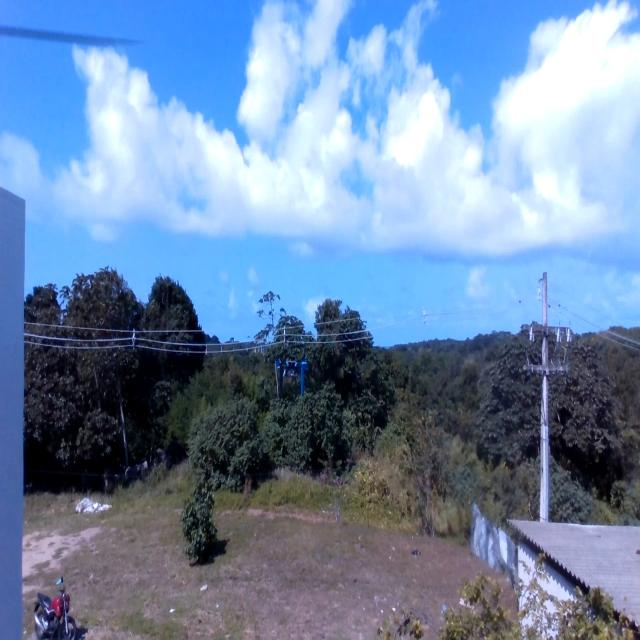-uav-: (270, 345, 309, 400)
